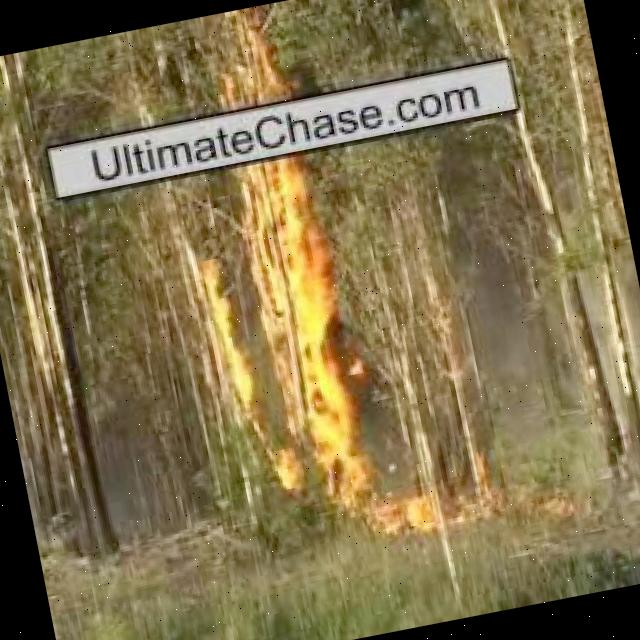fire: (162, 140, 389, 522), (207, 34, 295, 116), (348, 480, 451, 542)
